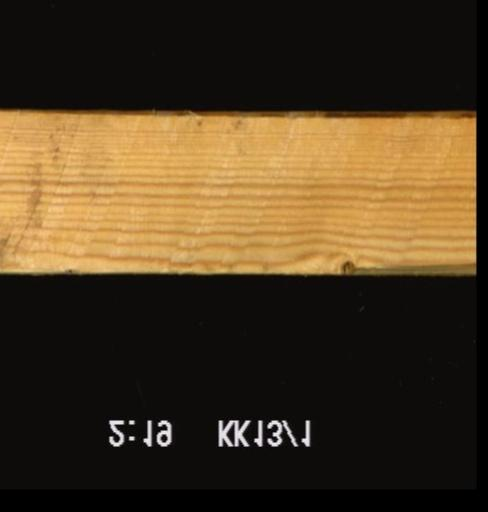edge_knot: (337, 251, 355, 274)
wave: (48, 108, 470, 126), (353, 260, 474, 274)
